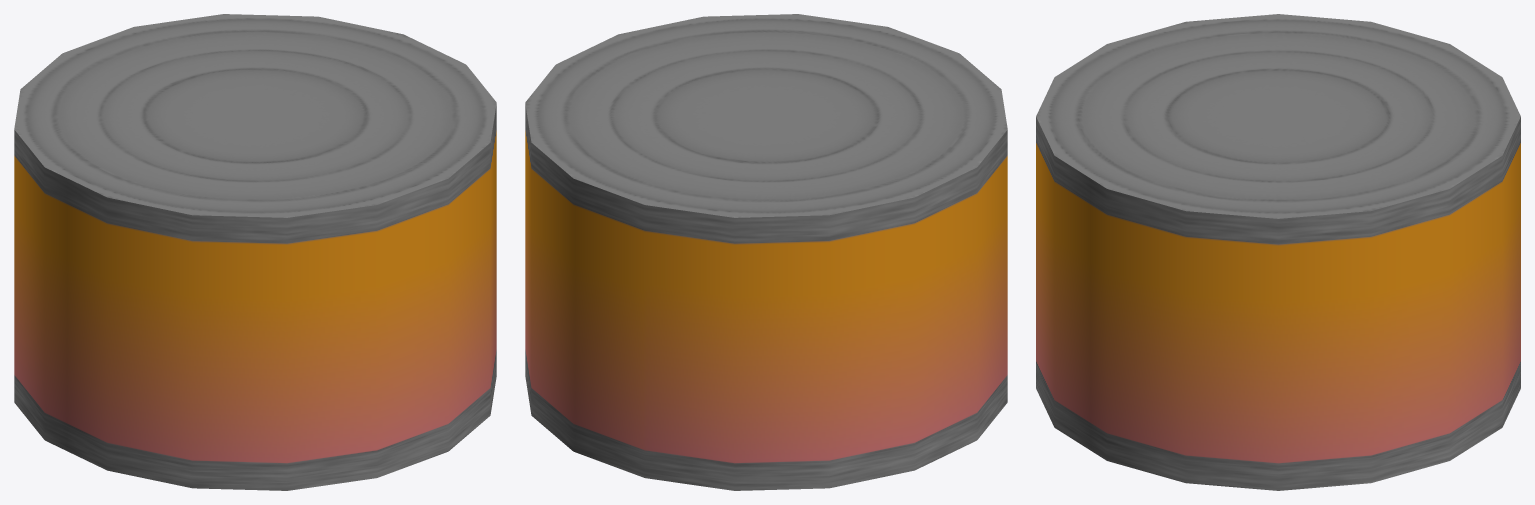
File: tincangradient_001.glb
3 renders of one model, left to right at view 1: azimuth 30°, elevation 25°; view 2: azimuth 150°, elevation 25°; view 3: azimuth 270°, elevation 25°, orthographic.
Parts seen in each view (by area): view 1: tincangradient.001; view 2: tincangradient.001; view 3: tincangradient.001.
Boxes of the visible parts, box(x1,y1,x2,y2) form: tincangradient.001: box(14, 14, 496, 490); tincangradient.001: box(525, 14, 1007, 490); tincangradient.001: box(1036, 14, 1520, 490).
Bounding box in the file's own units: 0.3916 × 0.2424 × 0.3916.
1 material, 1 textured.
